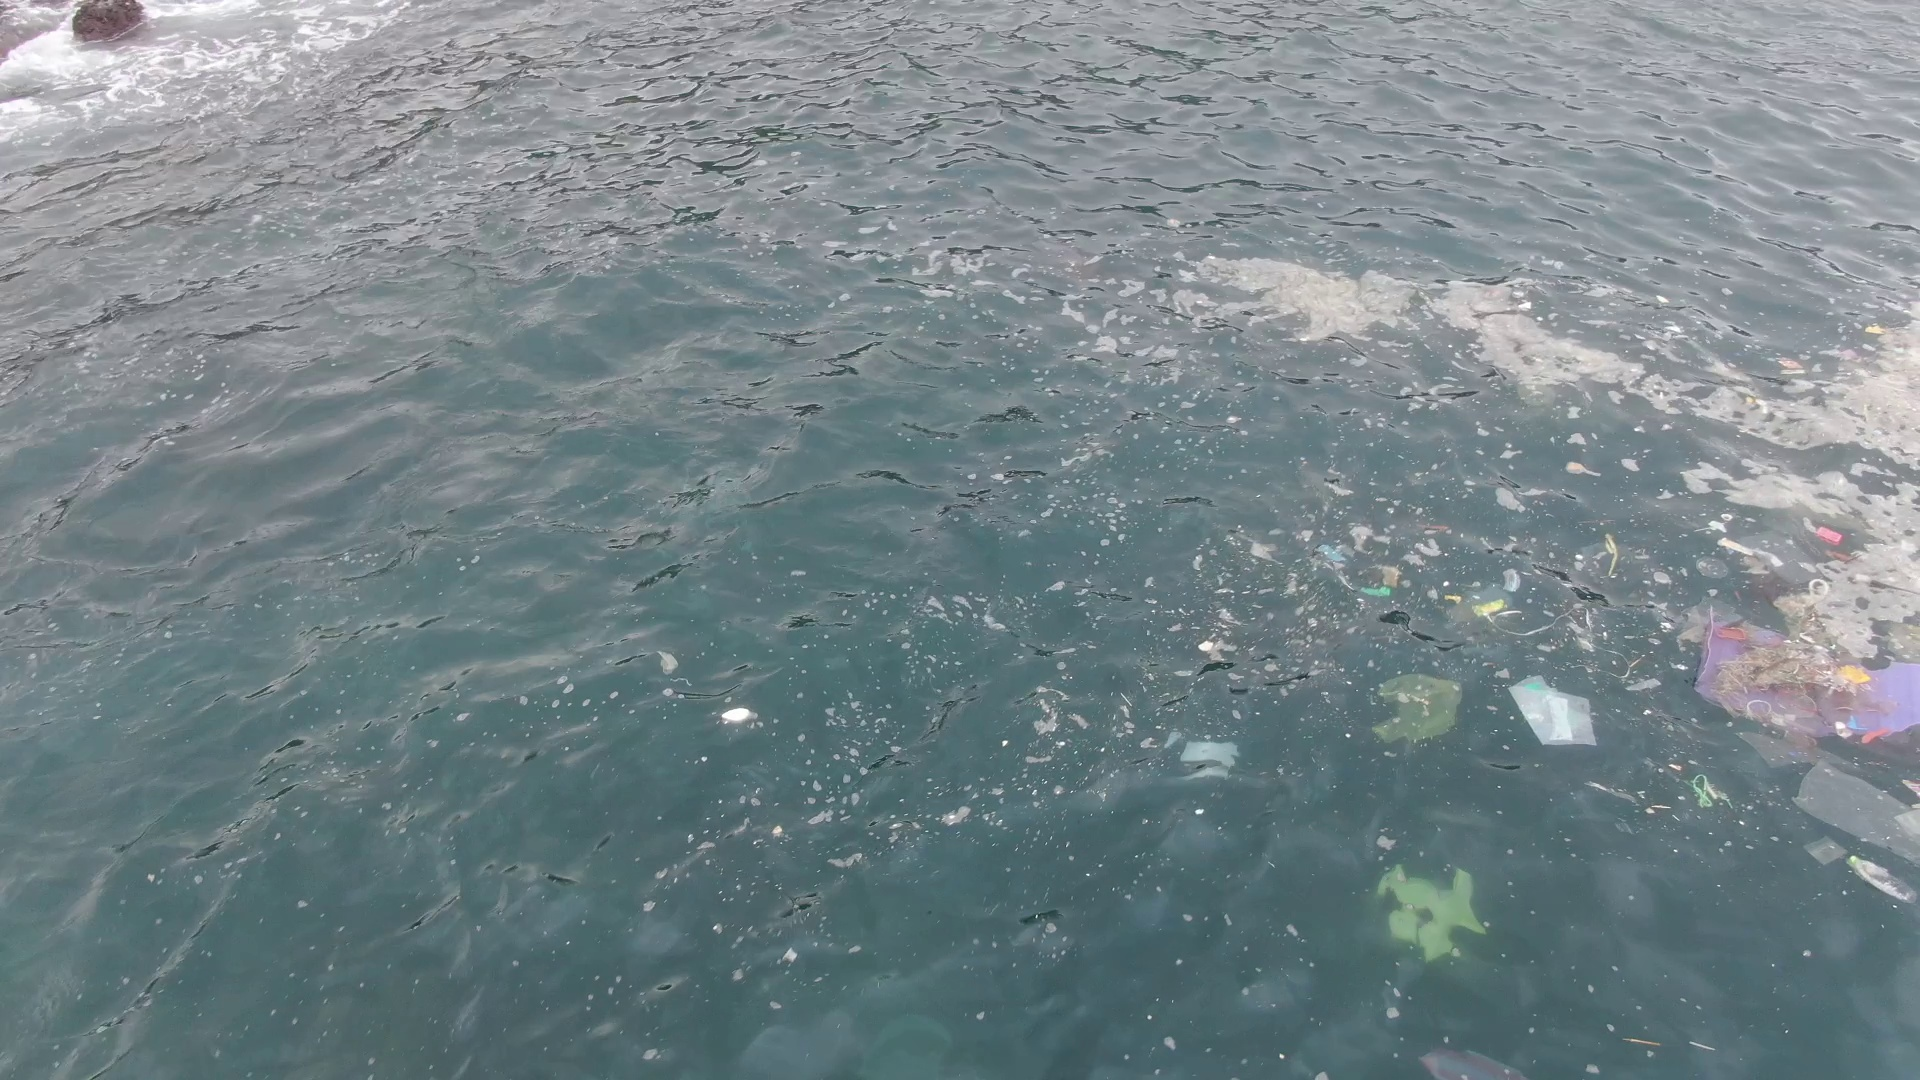bottle: (1846, 849, 1917, 910)
garbage: (1691, 595, 1920, 738), (1750, 738, 1920, 869), (1386, 865, 1486, 957), (1507, 675, 1592, 746), (1377, 673, 1462, 742), (1319, 549, 1399, 597), (1422, 1044, 1520, 1080), (1447, 592, 1523, 617), (1693, 774, 1734, 808), (1604, 531, 1619, 576), (1718, 538, 1754, 556), (1815, 524, 1844, 545), (1565, 460, 1604, 476), (1779, 357, 1805, 375), (723, 709, 752, 720), (1865, 323, 1886, 335)
